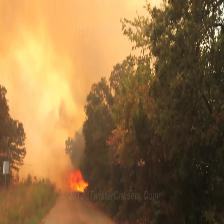fire: (54, 161, 103, 208)
